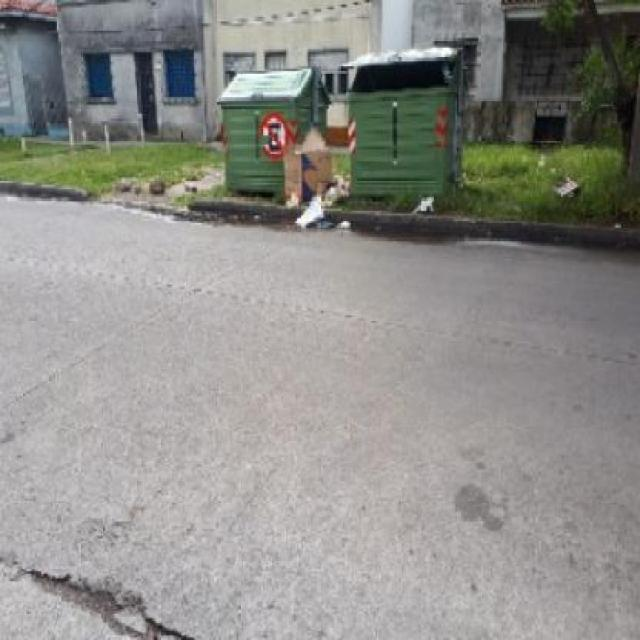garbage: (280, 135, 351, 228), (549, 171, 579, 200), (416, 185, 432, 211)
